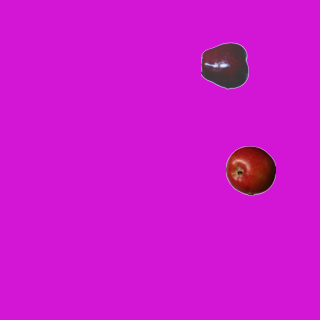Apple Braeburn: (225, 145, 275, 195)
Apple Red Delicious: (200, 40, 250, 90)
